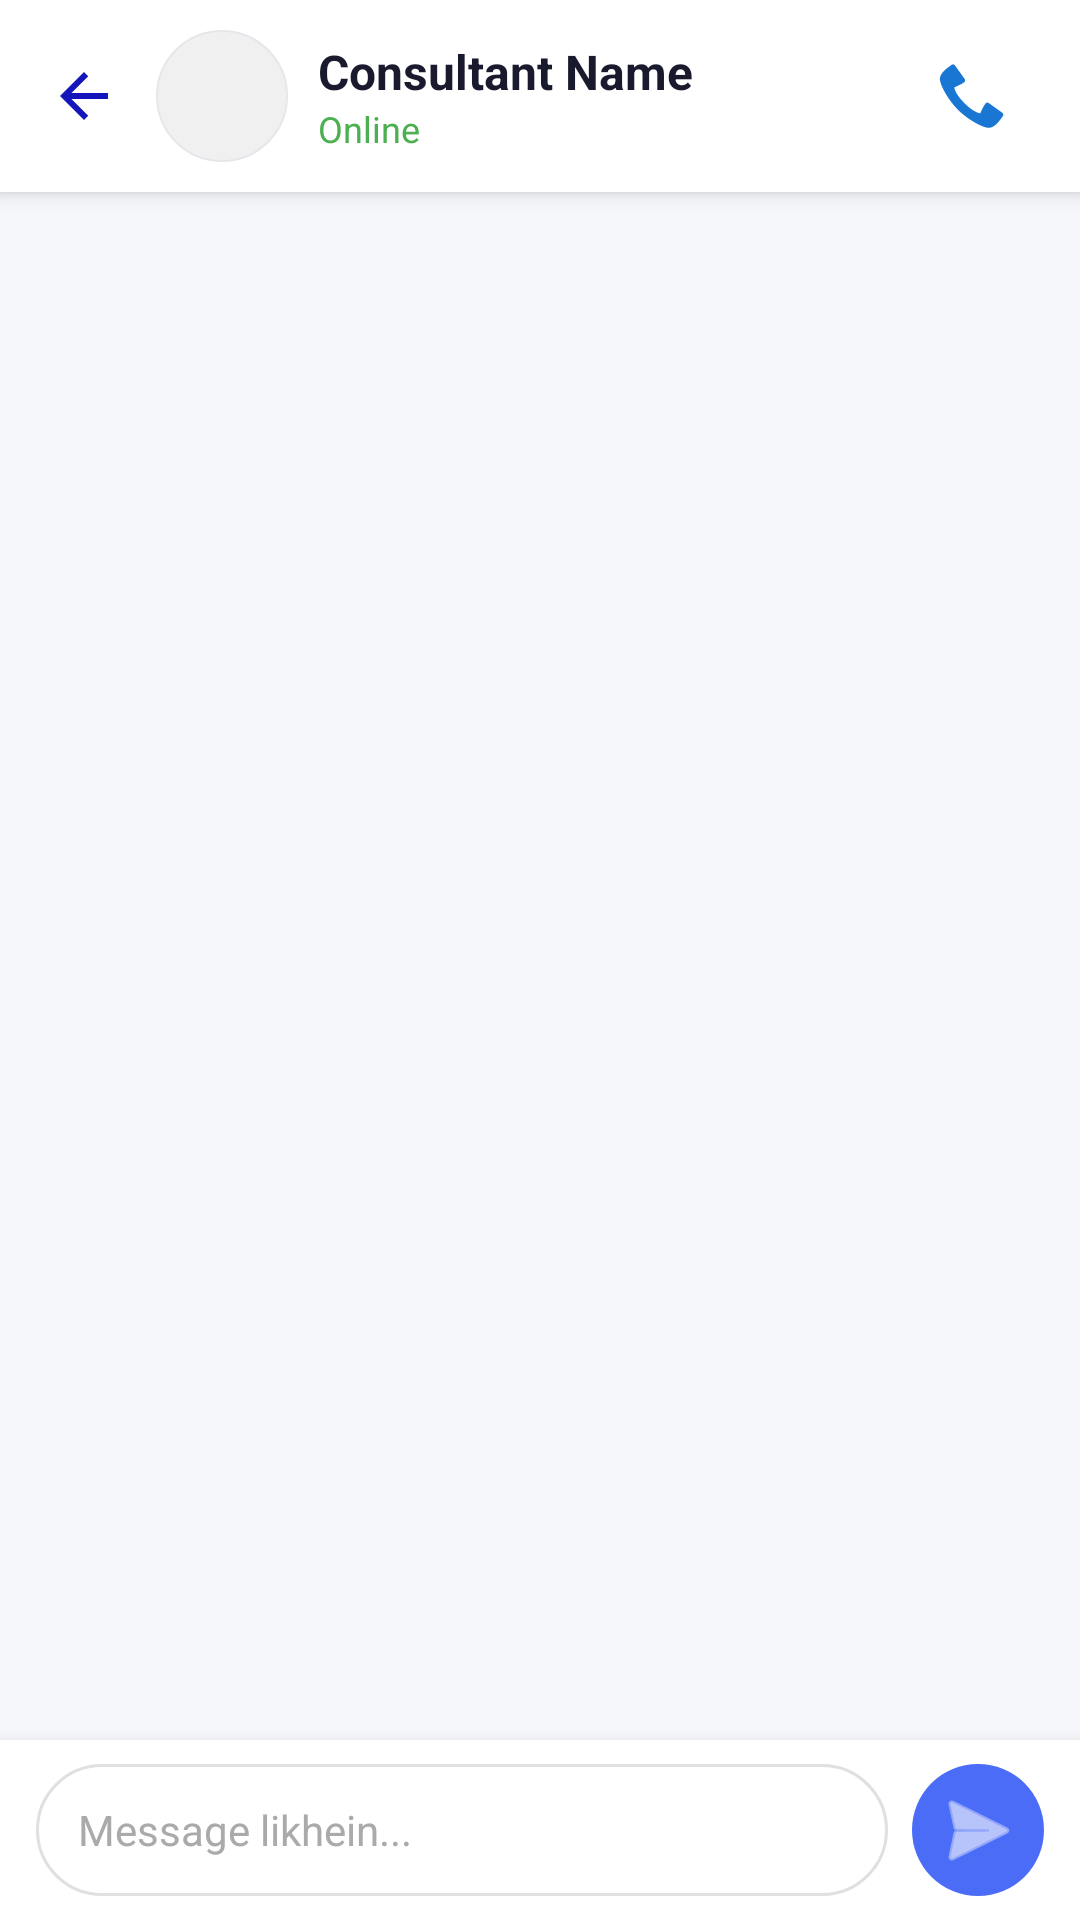

Icons on this 1080x1920 Android screen, each with its box as bbox(x1, y1, x2, y2):
arrow back: bbox(60, 72, 108, 120)
phone call: bbox(940, 64, 1004, 128)
send: bbox(912, 1764, 1044, 1896)
